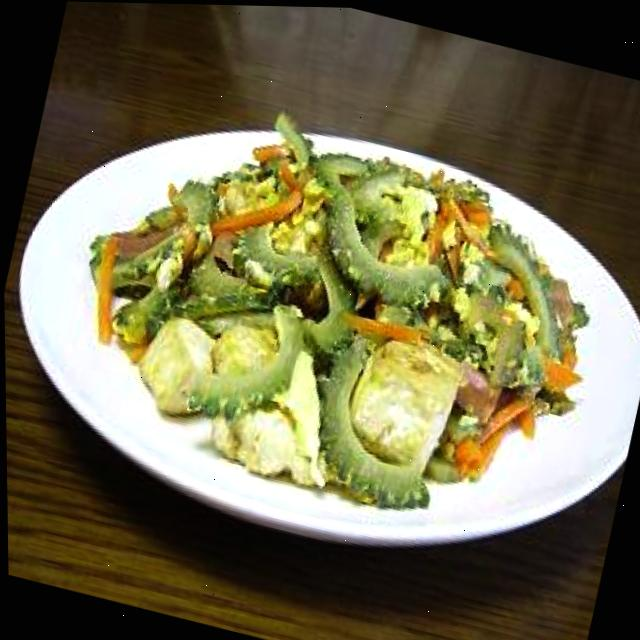熟制海鲜: (26, 46, 640, 580)
